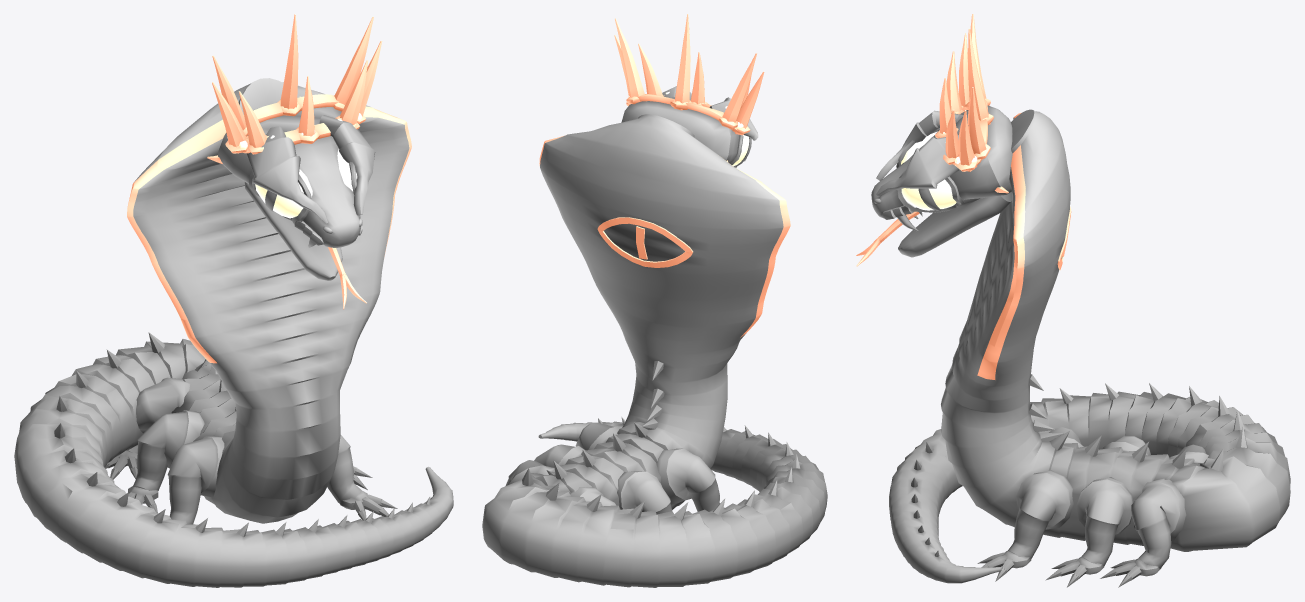
File: basilisk.glb
3 views of the same model, side by side, from view 1: azimuth 30°, elevation 25°; view 2: azimuth 150°, elevation 25°; view 3: azimuth 270°, elevation 25° (orthographic). The views are drawn at different scales.
Visible parts, largest first — view 1: Basilisk; view 2: Basilisk; view 3: Basilisk.
Boxes of the visible parts, <box> form: Basilisk: <box>14,14,453,587</box>; Basilisk: <box>482,14,827,587</box>; Basilisk: <box>856,14,1290,587</box>.
Size of the model in its own units: 0.5679 by 0.8561 by 0.6743.
